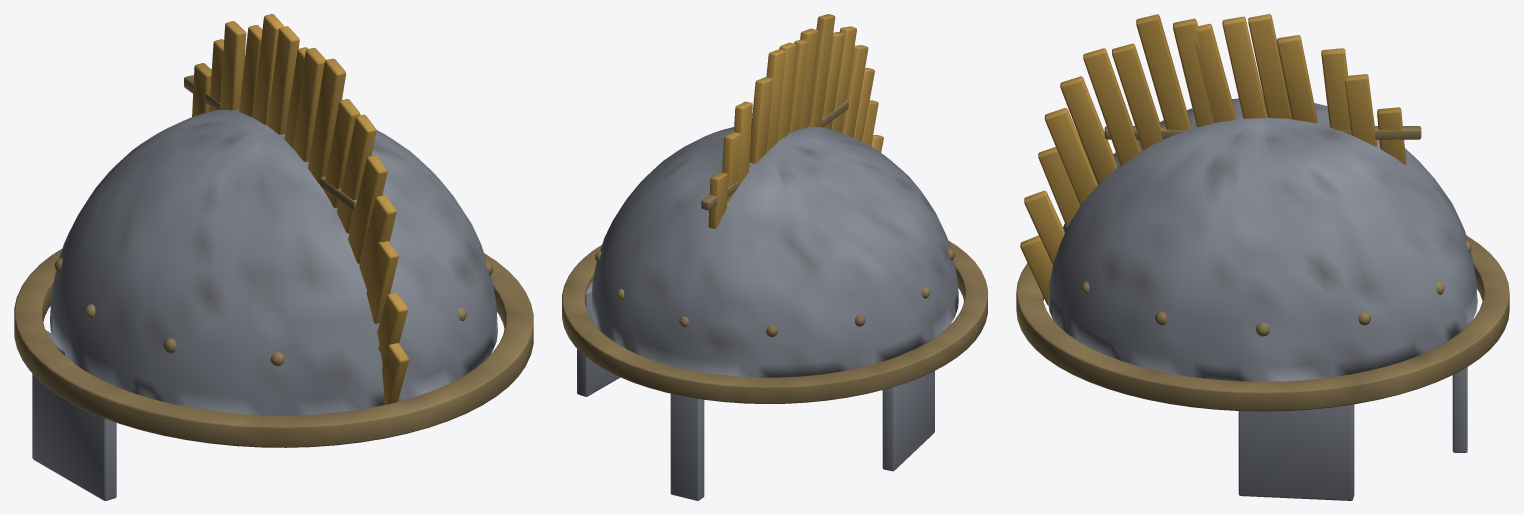
File: head_ascend.glb
3 renders of one model, left to right at view 1: azimuth 30°, elevation 25°; view 2: azimuth 150°, elevation 25°; view 3: azimuth 270°, elevation 25°, orthographic. The views are drawn at different scales.
Parts seen in each view (by area): view 1: Sphere, Cylinder, Cube.001, Cube.012, Cube.009, Cube.011, Cube.014, Cube.015, Cube.006, Cube.008, Cube.013, Cube.017 (+8 smaller); view 2: Sphere, Cylinder, Cube.001, Cube, Cube.012, Cube.007, Cube.002, Cube.015, Cube.008, Cube.014, Cube.010, Cube.013 (+7 smaller); view 3: Sphere, Cylinder, Cube.002, Cube.012, Cube.014, Cube.015, Cube.013, Cube.008, Cube.009, Cube.016, Cube.007, Cube.010 (+9 smaller).
Part boxes in pixels (box(x1,y1,x2,y2)): Sphere: box(50, 109, 497, 415); Cylinder: box(14, 248, 533, 447); Cube.001: box(32, 330, 116, 500); Cube.012: box(308, 58, 346, 183); Cube.009: box(267, 26, 299, 134); Cube.011: box(293, 48, 325, 161); Cube.014: box(337, 114, 376, 233); Cube.015: box(348, 155, 387, 263); Cube.006: box(220, 21, 246, 110); Cube.008: box(252, 14, 284, 124); Cube.013: box(323, 99, 360, 208); Cube.017: box(366, 241, 398, 323); Sphere: box(591, 126, 958, 377); Cylinder: box(562, 240, 987, 403); Cube.001: box(882, 353, 934, 471); Cube: box(670, 393, 704, 500); Cube.012: box(808, 14, 835, 126); Cube.007: box(749, 77, 773, 163); Cube.002: box(577, 281, 620, 396); Cube.015: box(841, 45, 868, 137); Cube.008: box(766, 49, 785, 151); Cube.014: box(831, 26, 856, 132); Cube.010: box(787, 39, 808, 132); Cube.013: box(822, 32, 844, 129); Sphere: box(1048, 98, 1477, 381); Cylinder: box(1016, 235, 1509, 411); Cube.002: box(1238, 404, 1354, 500); Cube.012: box(1136, 14, 1190, 130); Cube.014: box(1083, 48, 1140, 165); Cube.015: box(1060, 76, 1117, 184); Cube.013: box(1112, 43, 1163, 149); Cube.008: box(1248, 14, 1292, 119); Cube.009: box(1222, 16, 1267, 118); Cube.016: box(1044, 108, 1097, 205); Cube.007: box(1277, 35, 1317, 123); Cube.010: box(1194, 23, 1236, 122).
Size of the model in its own units: 2.56 by 2.55 by 2.65.
